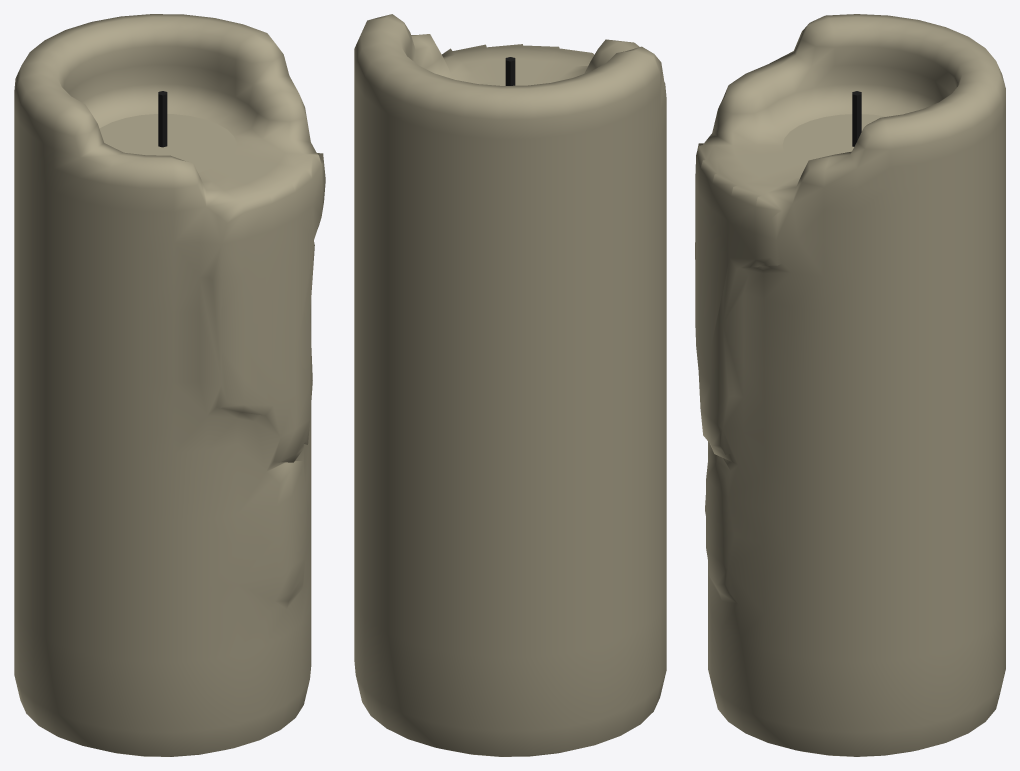
File: medium_candle.fbx
3 views of the same model, side by side, from view 1: azimuth 30°, elevation 25°; view 2: azimuth 150°, elevation 25°; view 3: azimuth 270°, elevation 25° (orthographic). The views are drawn at different scales.
Visible parts, largest first — view 1: pCylinder3; view 2: pCylinder3; view 3: pCylinder3.
Part boxes in pixels (box(x1,y1,x2,y2)): pCylinder3: box(14, 14, 325, 756); pCylinder3: box(354, 14, 666, 756); pCylinder3: box(695, 14, 1005, 756).
Bounding box in the file's own units: 5.6 × 13.18 × 5.84.
